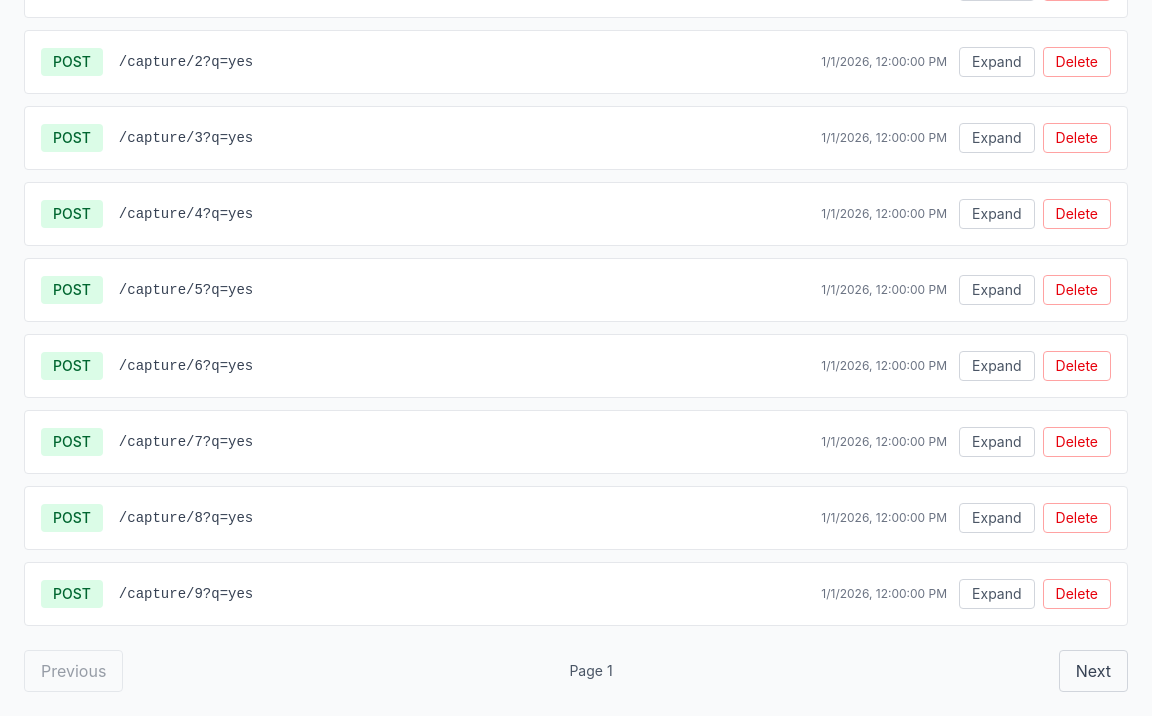
Test: dashboard › never overlaps polls and ignores a late response from the previous page
(page scrolled)
Click the button "Next" at {"x": 1093, "y": 671}, box [1059,650,1128,692]
(page scrolled)
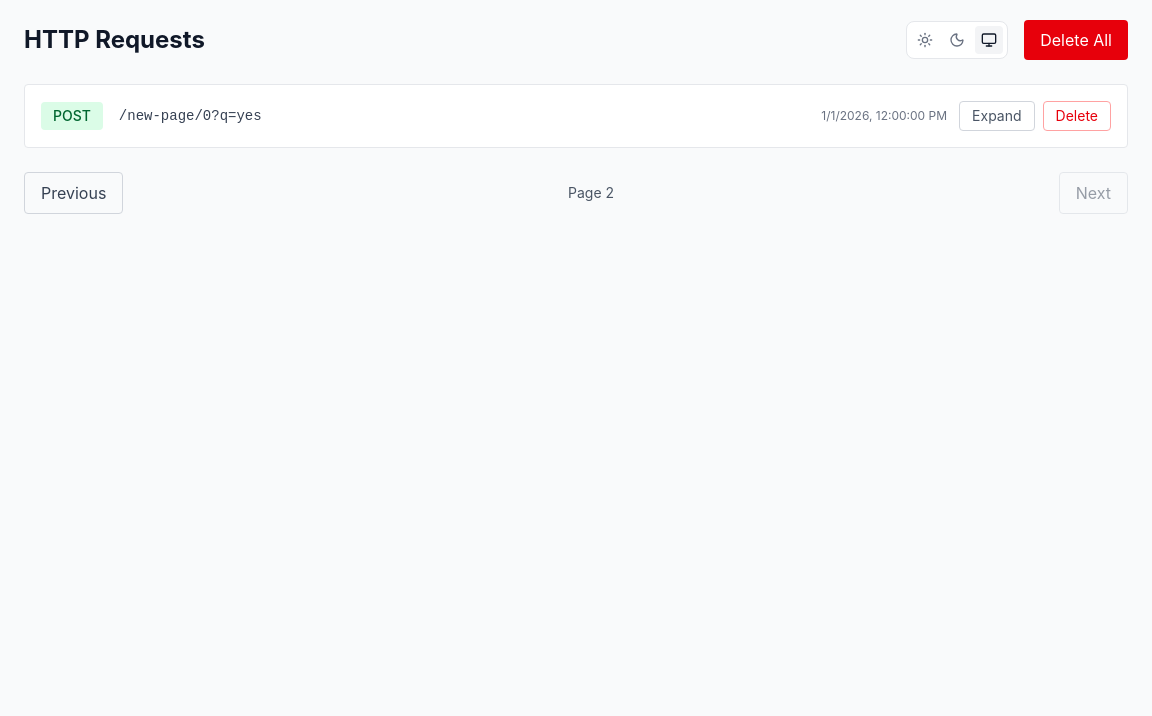
Check: the text "/new-page/0?q=yes" is shown, box [119,108,262,124]
Check: the button "Next" is disabled, box [1059,172,1128,214]
